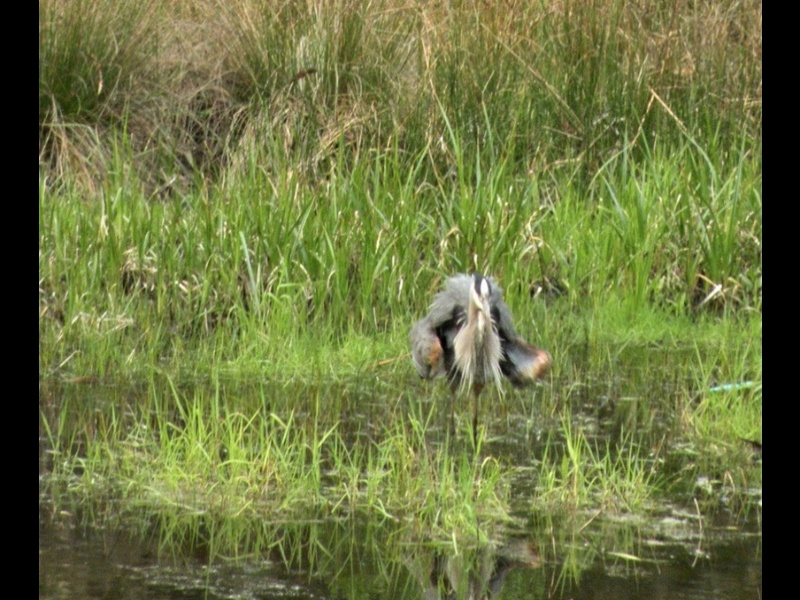heron: (409, 263, 555, 441)
